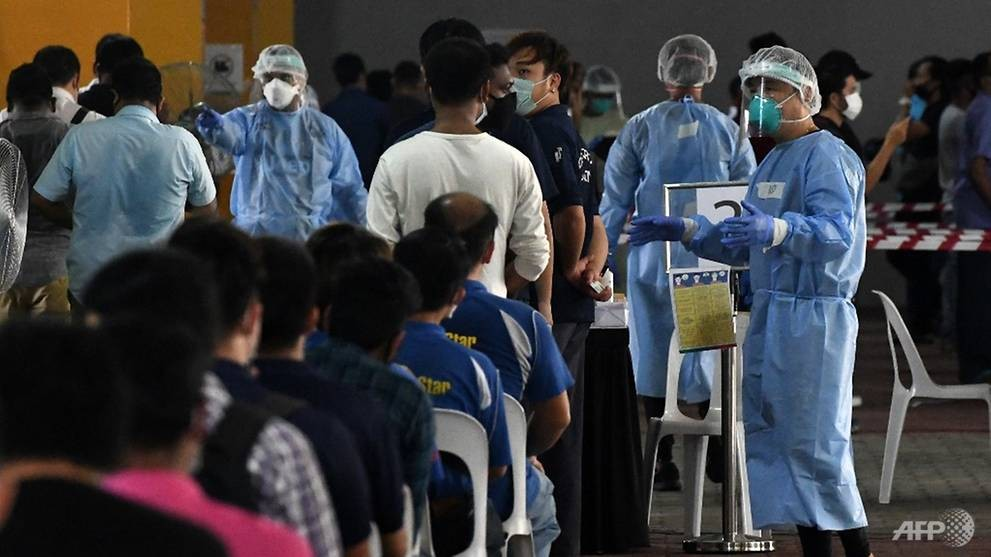Coverall: (700, 137, 884, 537), (596, 95, 764, 433), (202, 89, 367, 244)
Face_Shield: (735, 60, 799, 150)
Gloves: (719, 199, 787, 256), (623, 214, 696, 250), (193, 103, 228, 153)
with_mask: (504, 49, 552, 115), (747, 84, 797, 134), (258, 71, 306, 112), (486, 71, 519, 128), (838, 75, 867, 130)
